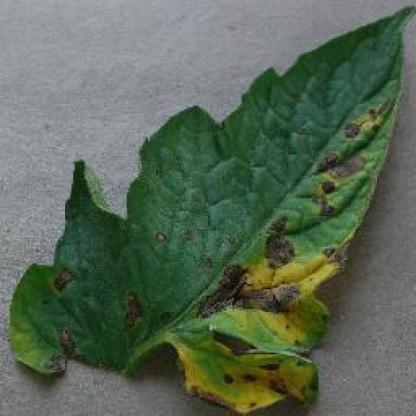Tomato_Blight: (55, 15, 410, 412)
